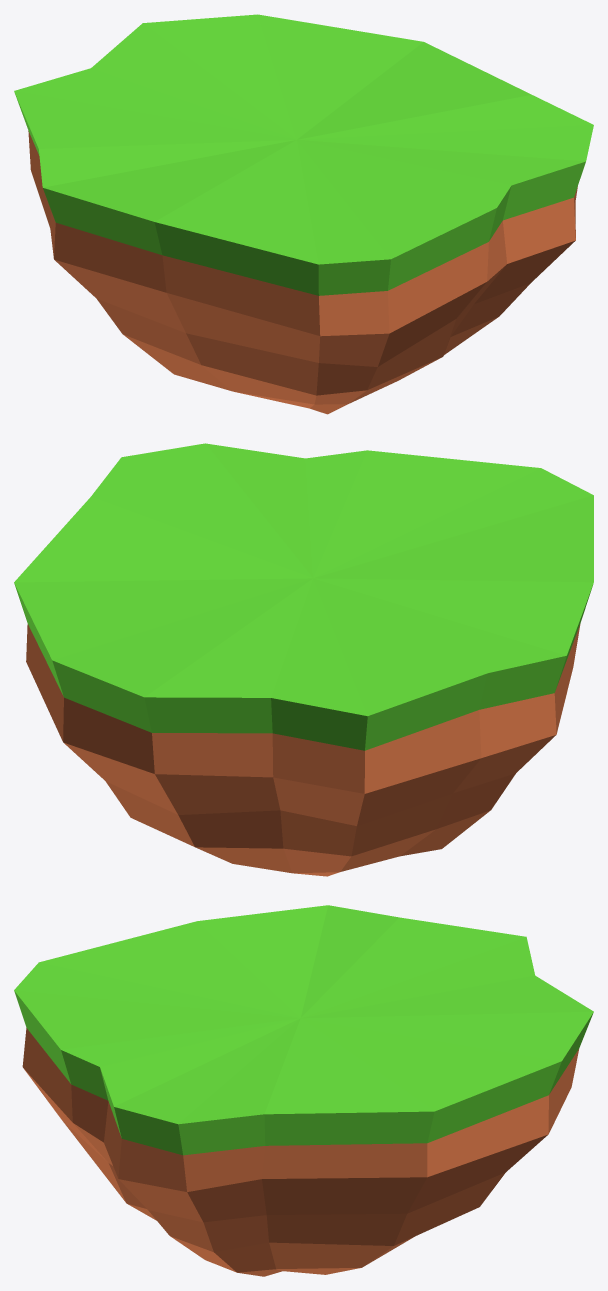
Rendered from Island5.fbx.
The picture shows the model from 3 angles, top to bottom: view 1: azimuth 30°, elevation 25°; view 2: azimuth 150°, elevation 25°; view 3: azimuth 270°, elevation 25°; orthographic projection. The views are drawn at different scales.
Visible parts, largest first — view 1: Island 5; view 2: Island 5; view 3: Island 5.
Part boxes in pixels (x1,y1,x2,y2): Island 5: (14,14,593,414); Island 5: (14,443,593,876); Island 5: (14,905,593,1276).
Bounding box in the file's own units: 1154 × 582 × 1269.
